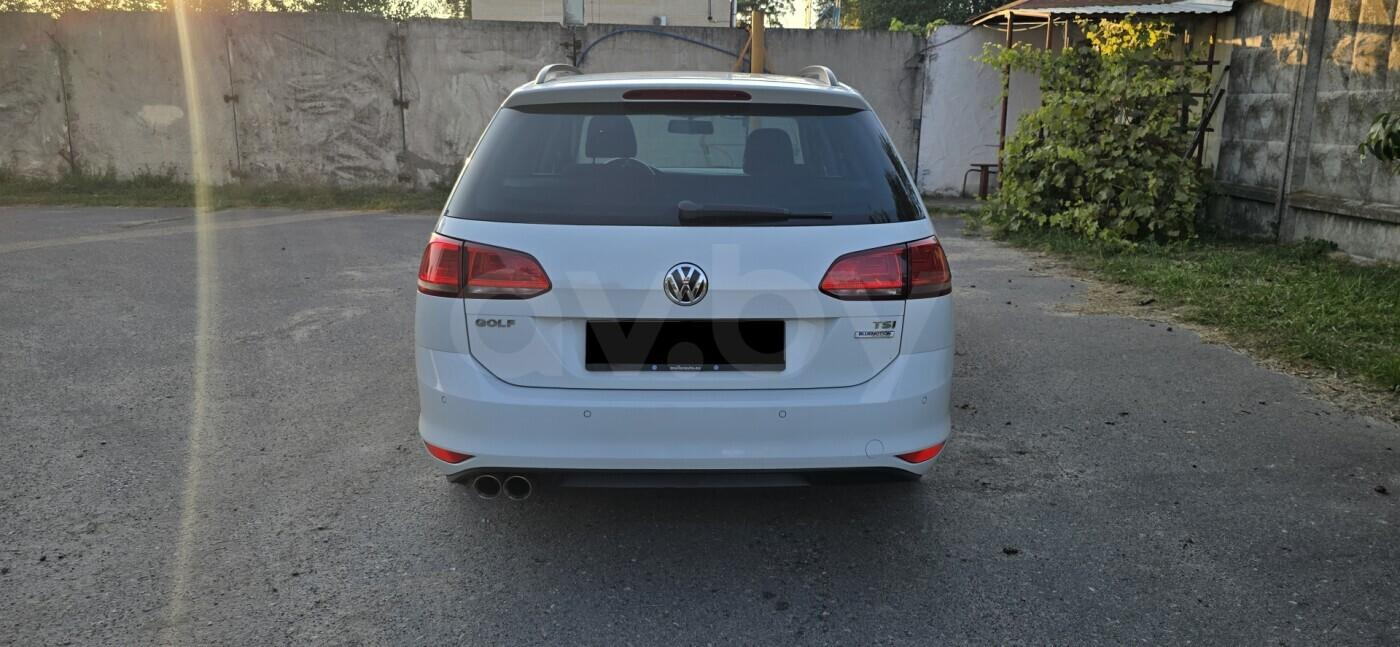Golf_2012-2017: (408, 68, 963, 508)
